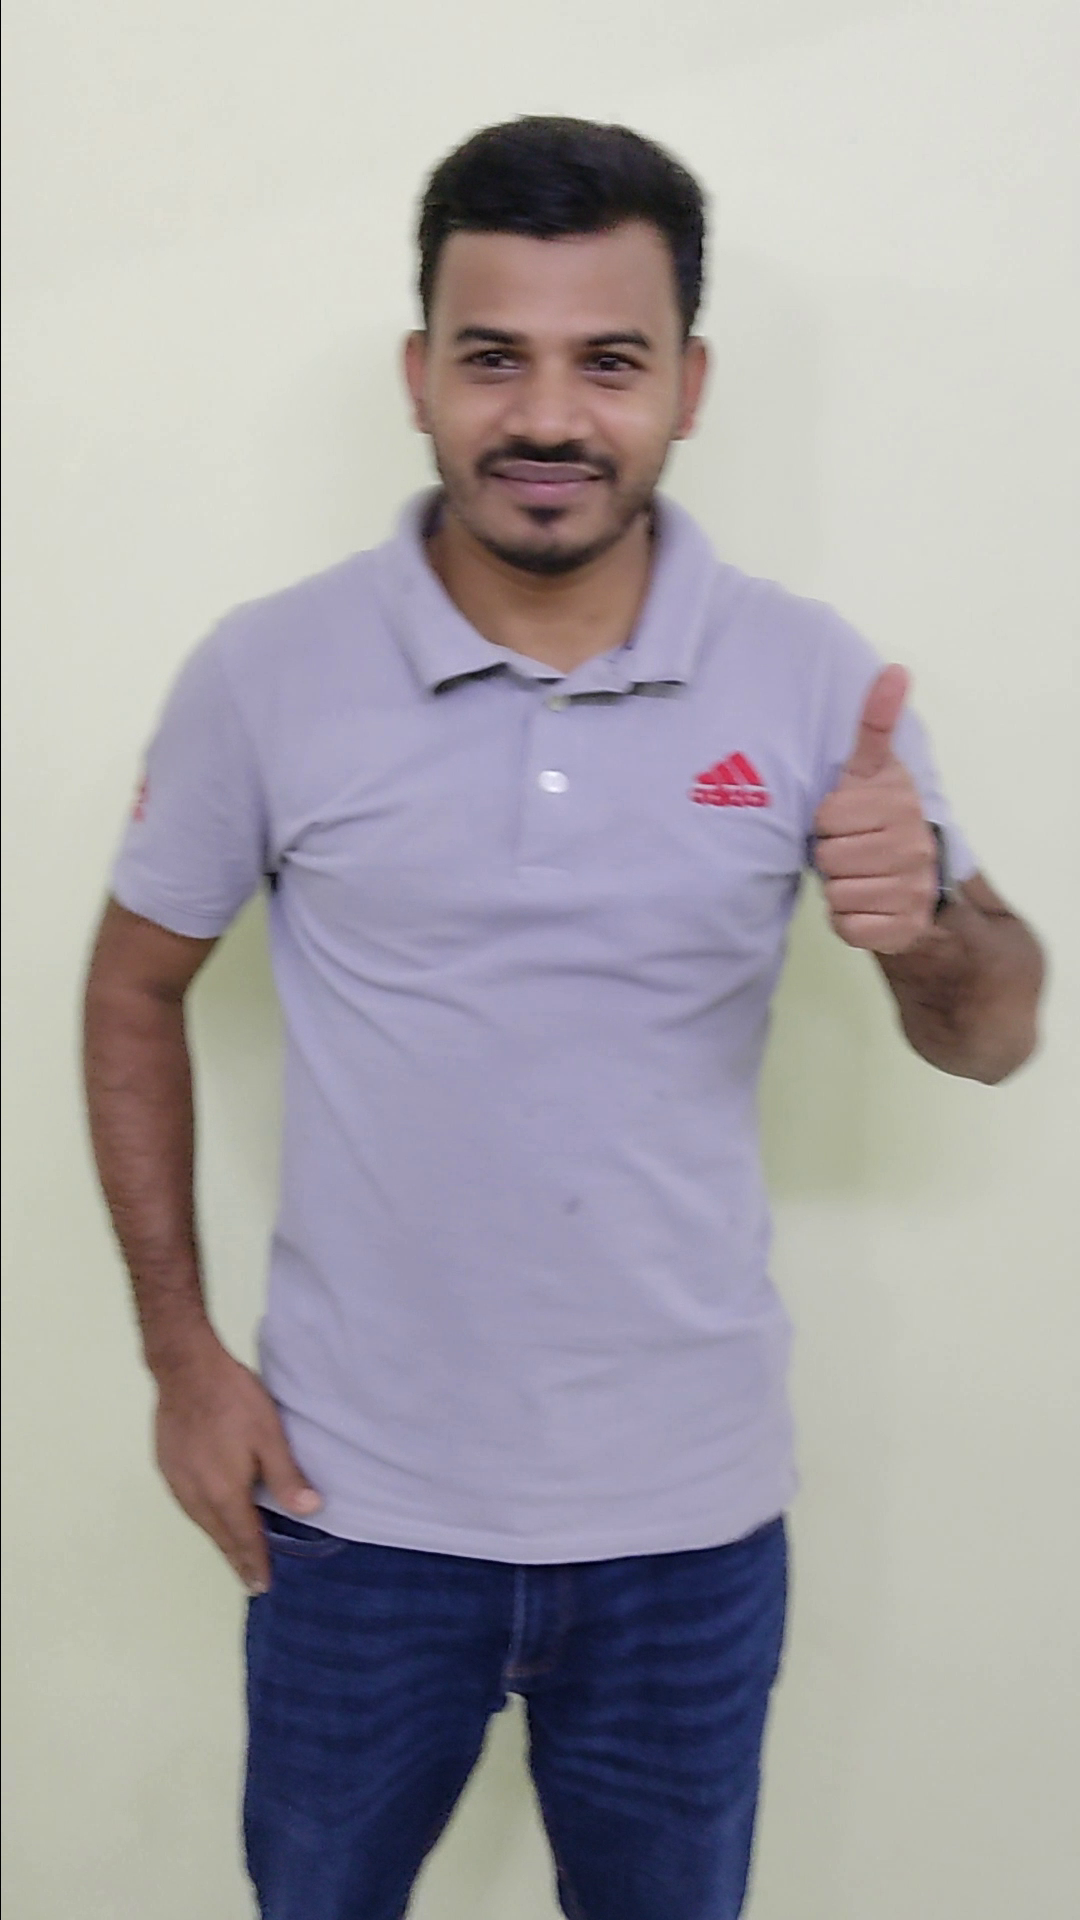Like: (758, 644, 980, 969)
None: (127, 1323, 334, 1614)
